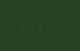eight: (36, 20, 44, 30)
five: (45, 19, 53, 30)
four: (27, 20, 35, 31)
nine: (18, 21, 26, 31)
one: (54, 19, 62, 29)
